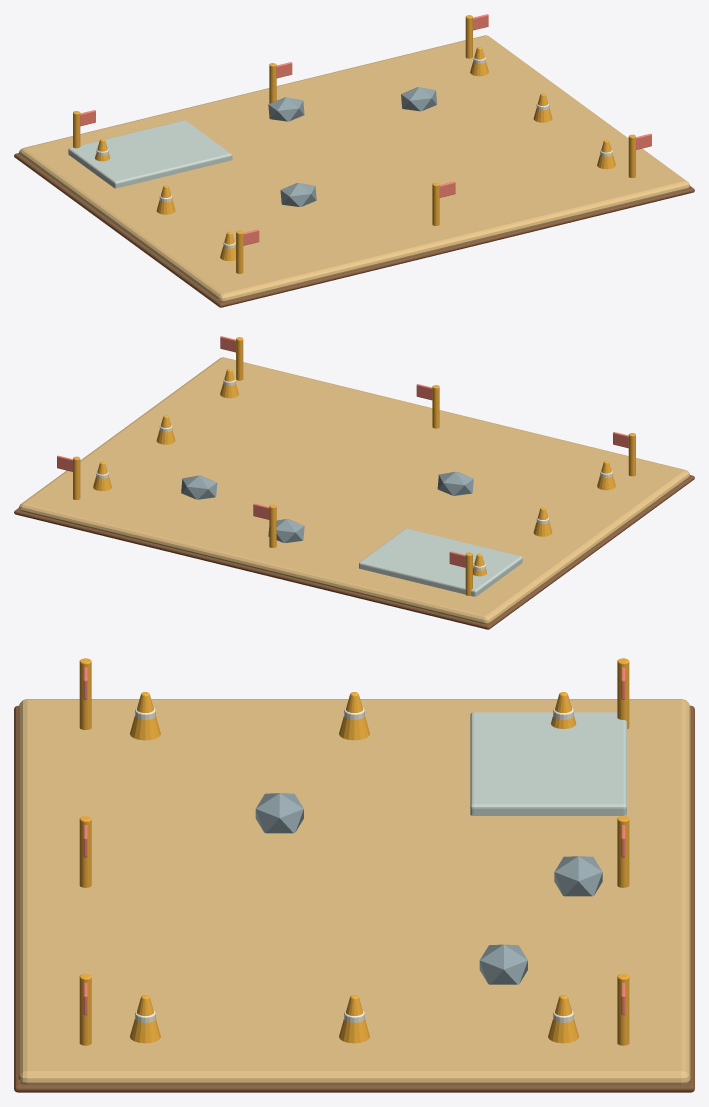
The model's file is SM_Building_Stage0.fbx.
The picture shows the model from 3 angles, top to bottom: view 1: azimuth 30°, elevation 25°; view 2: azimuth 150°, elevation 25°; view 3: azimuth 270°, elevation 25°; orthographic projection. The views are drawn at different scales.
Parts seen in each view (by area): view 1: Beveled site foundation, Site office deck, Foundation shadow course, Site rock.002, Site rock.001, Site rock; view 2: Beveled site foundation, Site office deck, Foundation shadow course, Site rock.001, Site rock, Site rock.002; view 3: Beveled site foundation, Site office deck, Foundation shadow course, Site rock, Site rock.002, Site rock.001, Safety cone.004, Safety cone.003, Safety cone.005, Safety cone.001, Safety cone, Survey stake.004 (+5 smaller).
Boxes of the visible parts, left/top/right/bottom form: Beveled site foundation: left=19, top=35, right=689, bottom=302; Site office deck: left=68, top=120, right=232, bottom=188; Foundation shadow course: left=14, top=153, right=694, bottom=307; Site rock.002: left=268, top=97, right=304, bottom=121; Site rock.001: left=401, top=87, right=436, bottom=111; Site rock: left=280, top=183, right=316, bottom=206; Beveled site foundation: left=19, top=357, right=689, bottom=624; Site office deck: left=359, top=528, right=522, bottom=596; Foundation shadow course: left=14, top=475, right=694, bottom=629; Site rock.001: left=181, top=475, right=217, bottom=499; Site rock: left=437, top=471, right=473, bottom=495; Site rock.002: left=268, top=519, right=304, bottom=542; Beveled site foundation: left=18, top=699, right=690, bottom=1084; Site office deck: left=470, top=712, right=626, bottom=815; Foundation shadow course: left=14, top=705, right=694, bottom=1092; Site rock: left=255, top=793, right=303, bottom=833; Site rock.002: left=554, top=856, right=602, bottom=896; Site rock.001: left=479, top=944, right=527, bottom=984; Safety cone.004: left=339, top=995, right=369, bottom=1043; Safety cone.003: left=130, top=995, right=160, bottom=1043; Safety cone.005: left=548, top=995, right=578, bottom=1043; Safety cone.001: left=339, top=692, right=369, bottom=740; Safety cone: left=130, top=692, right=160, bottom=740; Survey stake.004: left=79, top=974, right=91, bottom=1045.
Bounding box in the file's own units: 12.12 × 1.25 × 9.12.
